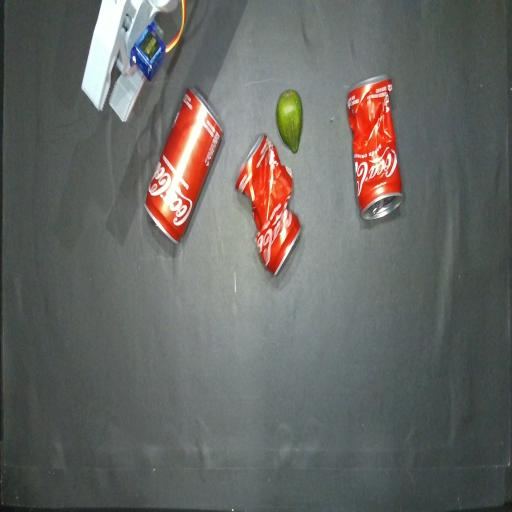higo: (277, 90, 302, 153)
lata: (145, 88, 222, 243)
lata_defectuoso: (235, 134, 301, 275), (347, 75, 403, 219)
